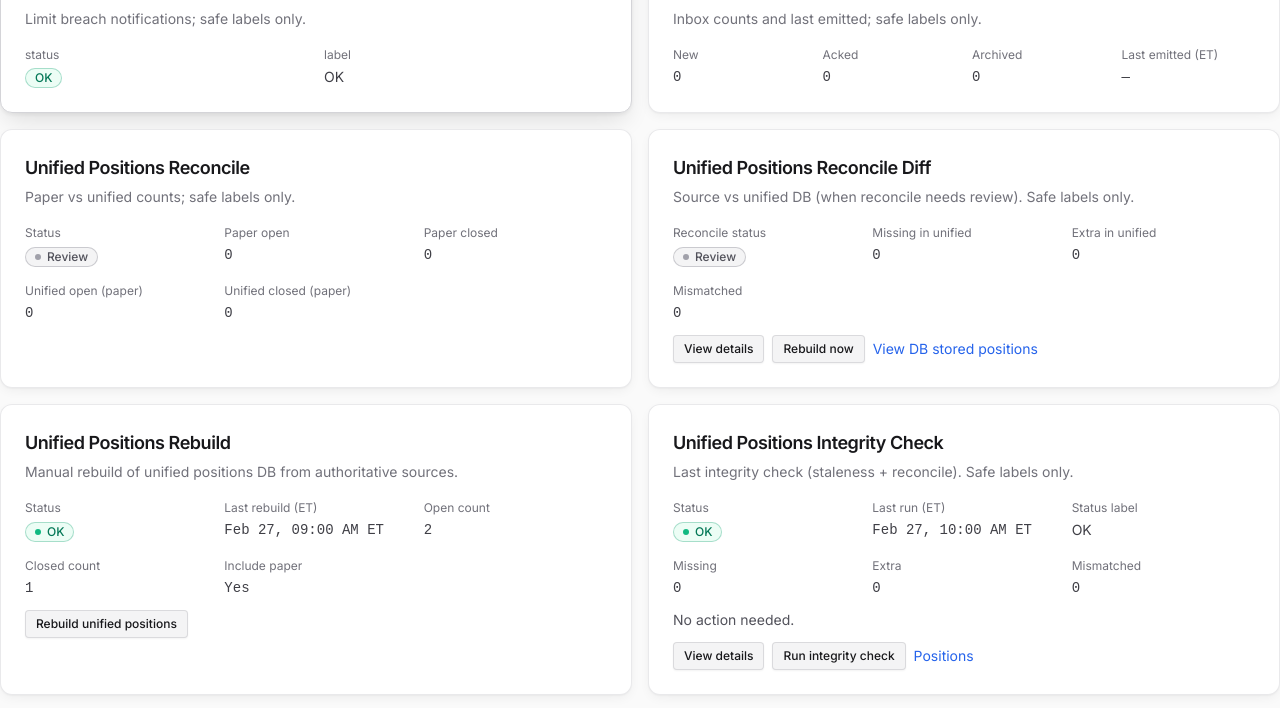
Test case: SystemDiagnosticsPage › R28.8: View details button exists when reconcile is Review and toggles expand
The image size is (1280, 708).
(page scrolled)
Click the button with test id "reconcile-diff-view-details-btn": x=719, y=349 x1=673 y1=335 x2=764 y2=363
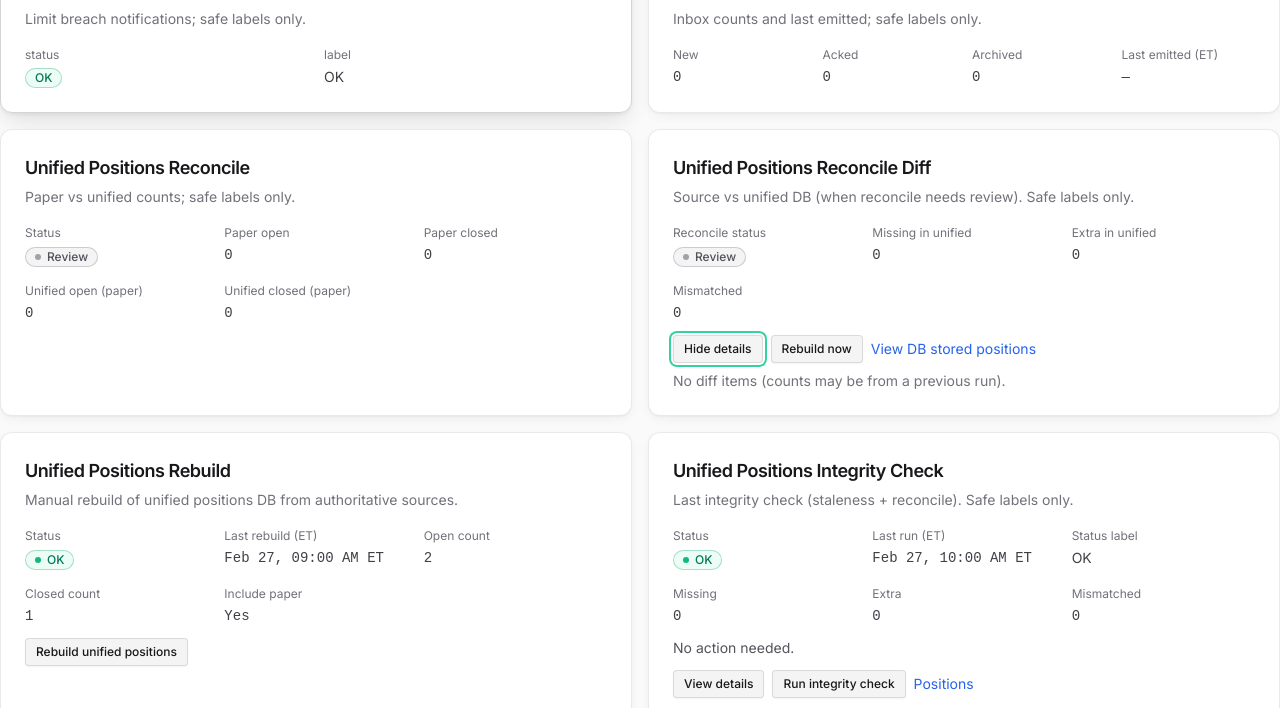
Expected: the button "Hide details" is shown, x1=673 y1=335 x2=763 y2=363
